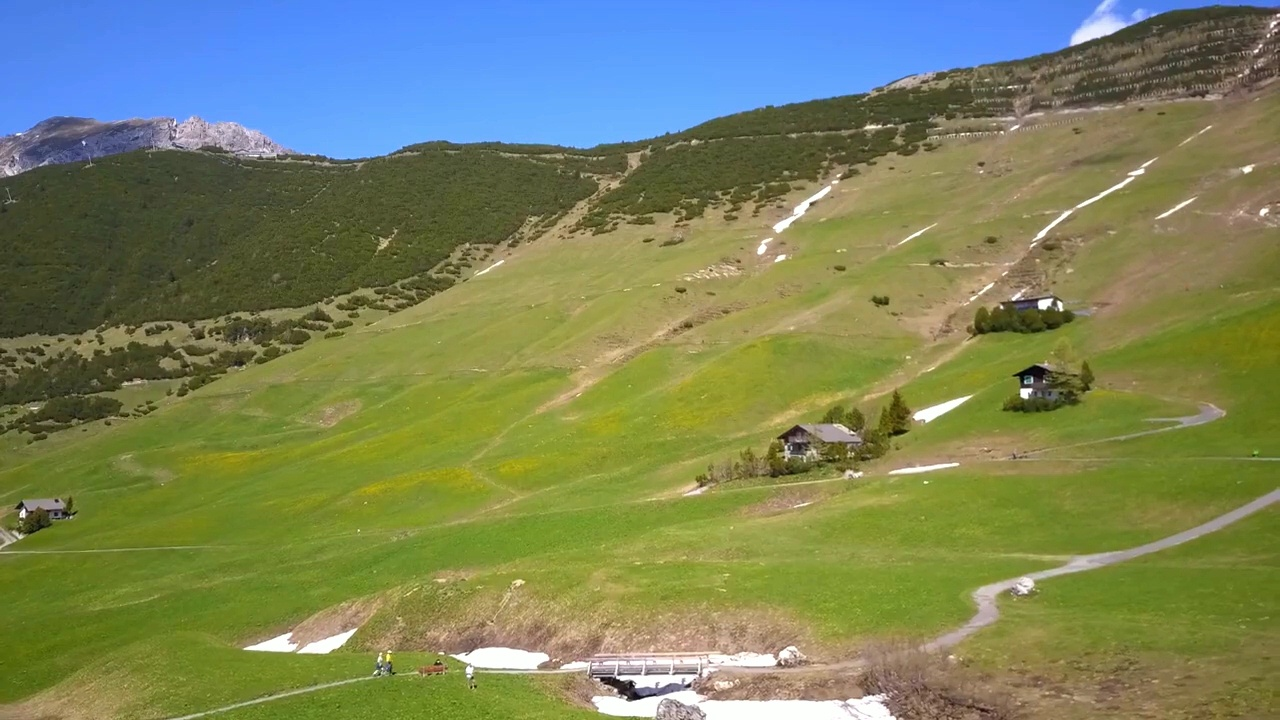insan: (461, 662, 482, 691), (373, 649, 387, 681), (383, 649, 397, 679)
